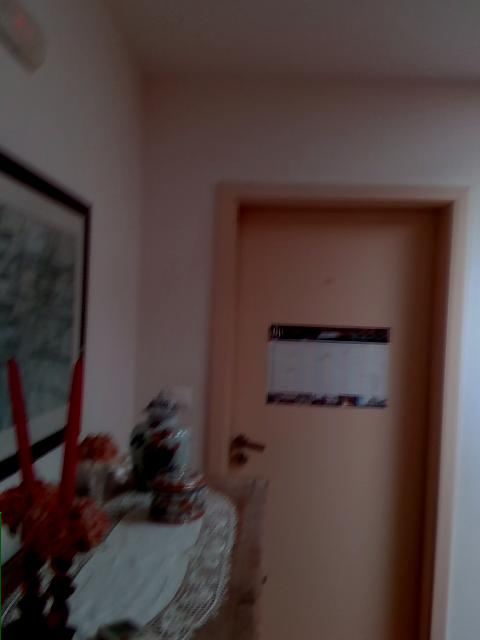closed_door: (210, 186, 466, 639)
